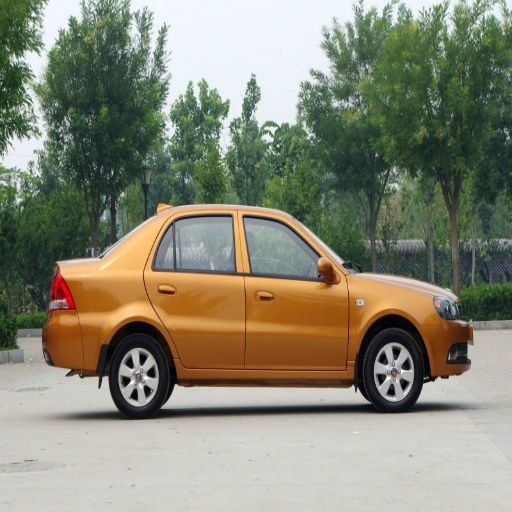back_right_door: (145, 211, 246, 368)
front_right_door: (240, 211, 344, 368)
